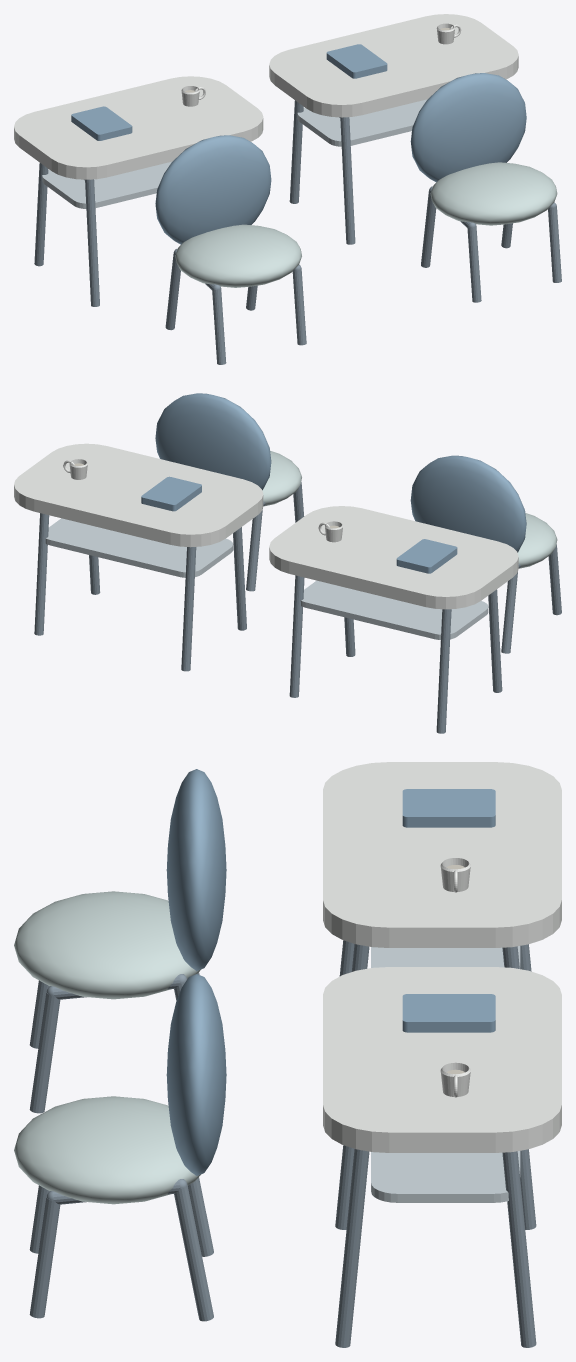
Rendered from school_twin_desks.glb.
3 renders of one model, top to bottom at view 1: azimuth 30°, elevation 25°; view 2: azimuth 150°, elevation 25°; view 3: azimuth 270°, elevation 25°, orthographic. The views are drawn at different scales.
Parts seen in each view (by area): view 1: decor_d8dcd8_matte, decor_476a8a_fabric, decor_9bb7b5_fabric, decor_455665_metal, decor_9aadb8_metal, decor_476a8a_matte; view 2: decor_d8dcd8_matte, decor_476a8a_fabric, decor_455665_metal, decor_9aadb8_metal, decor_9bb7b5_fabric, decor_476a8a_matte; view 3: decor_d8dcd8_matte, decor_9bb7b5_fabric, decor_476a8a_fabric, decor_455665_metal, decor_9aadb8_metal, decor_476a8a_matte.
Part boxes in pixels (x1=…): decor_d8dcd8_matte: x1=14, y1=14, x2=518, y2=179; decor_476a8a_fabric: x1=155, y1=73, x2=526, y2=244; decor_9bb7b5_fabric: x1=175, y1=162, x2=557, y2=287; decor_455665_metal: x1=34, y1=100, x2=561, y2=364; decor_9aadb8_metal: x1=42, y1=99, x2=427, y2=208; decor_476a8a_matte: x1=71, y1=44, x2=387, y2=140; decor_d8dcd8_matte: x1=14, y1=443, x2=518, y2=609; decor_476a8a_fabric: x1=155, y1=393, x2=526, y2=552; decor_455665_metal: x1=34, y1=482, x2=561, y2=733; decor_9aadb8_metal: x1=45, y1=518, x2=488, y2=639; decor_9bb7b5_fabric: x1=262, y1=450, x2=557, y2=568; decor_476a8a_matte: x1=141, y1=476, x2=457, y2=573; decor_d8dcd8_matte: x1=323, y1=762, x2=561, y2=1152; decor_9bb7b5_fabric: x1=14, y1=891, x2=200, y2=1204; decor_476a8a_fabric: x1=166, y1=769, x2=226, y2=1175; decor_455665_metal: x1=29, y1=940, x2=536, y2=1347; decor_9aadb8_metal: x1=371, y1=946, x2=520, y2=1202; decor_476a8a_matte: x1=402, y1=789, x2=495, y2=1032.
Bounding box in the file's own units: 2.64 × 1 × 1.65.
